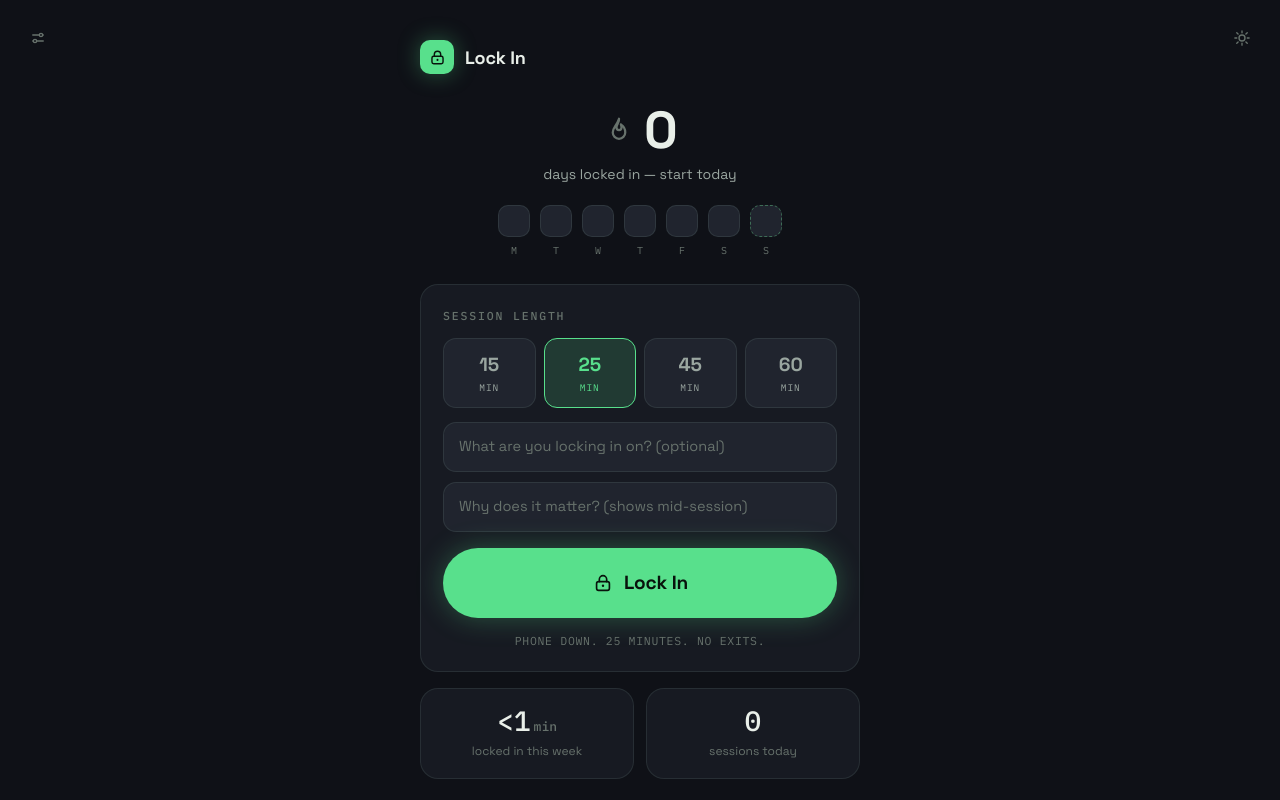
Test: the lock-in loop › goes promise → run and only unlocks "End & bank" after two minutes
Click the button "Lock In". click: click(640, 583)
box: [443,548,837,618]
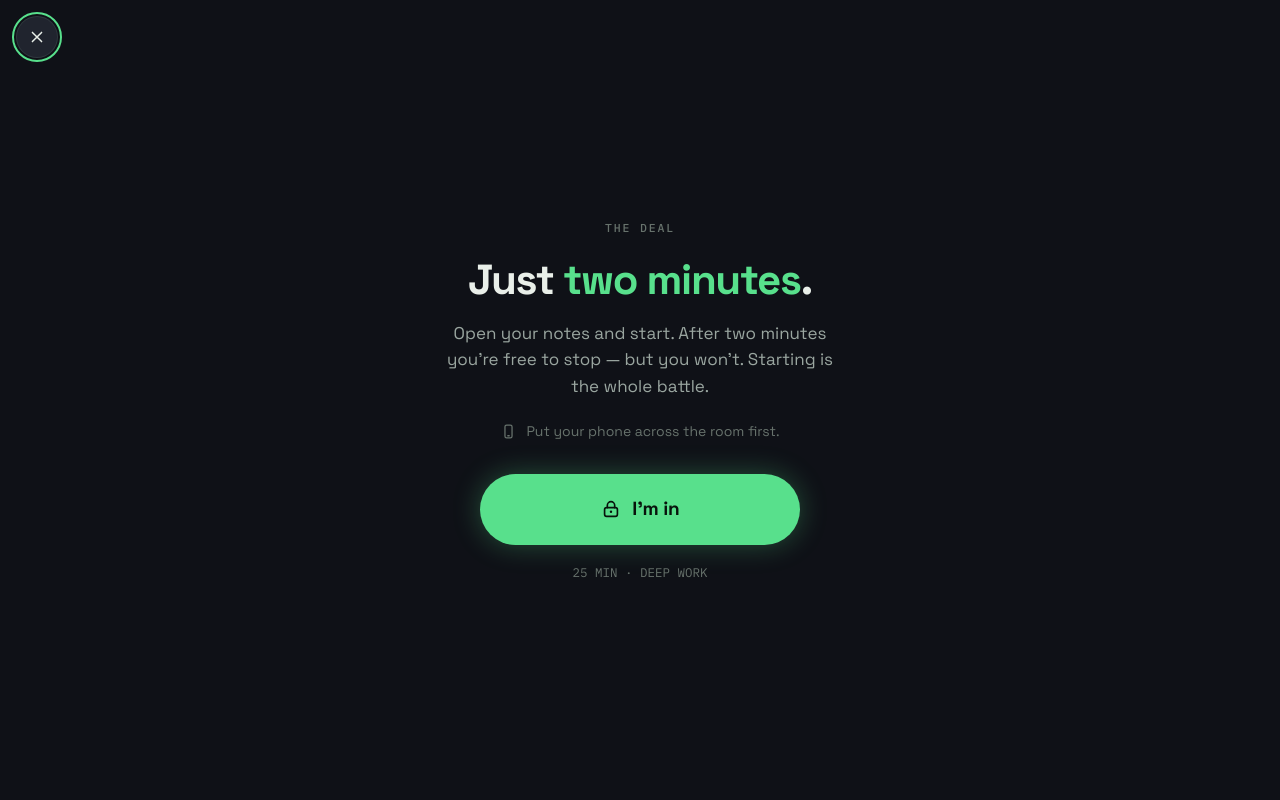
Click the button "I’m in". click: click(640, 509)
box: [480,474,800,545]
Wait 120000 ms
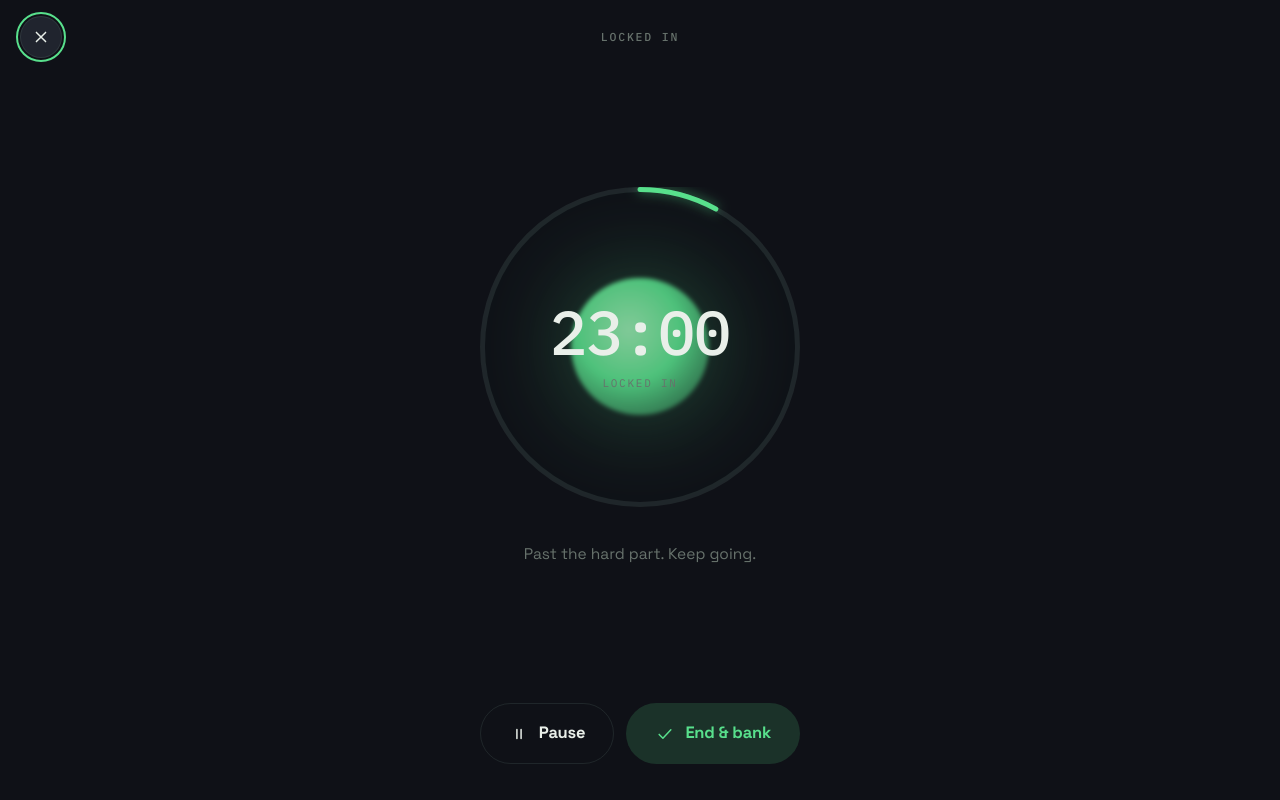
Expected: the text "locked in" is shown, [602,376,678,390]
Expected: the button "End & bank" is shown, [626,703,800,764]
